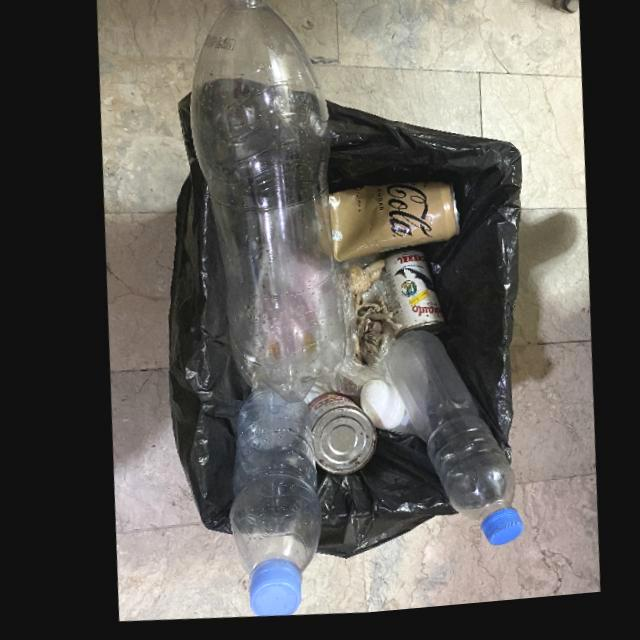aluminum: (324, 189, 455, 268), (297, 398, 368, 481), (375, 259, 441, 346)
left_over_food: (345, 267, 391, 373)
plastic_bottle: (188, 0, 339, 403), (380, 338, 513, 555), (219, 388, 312, 620)
